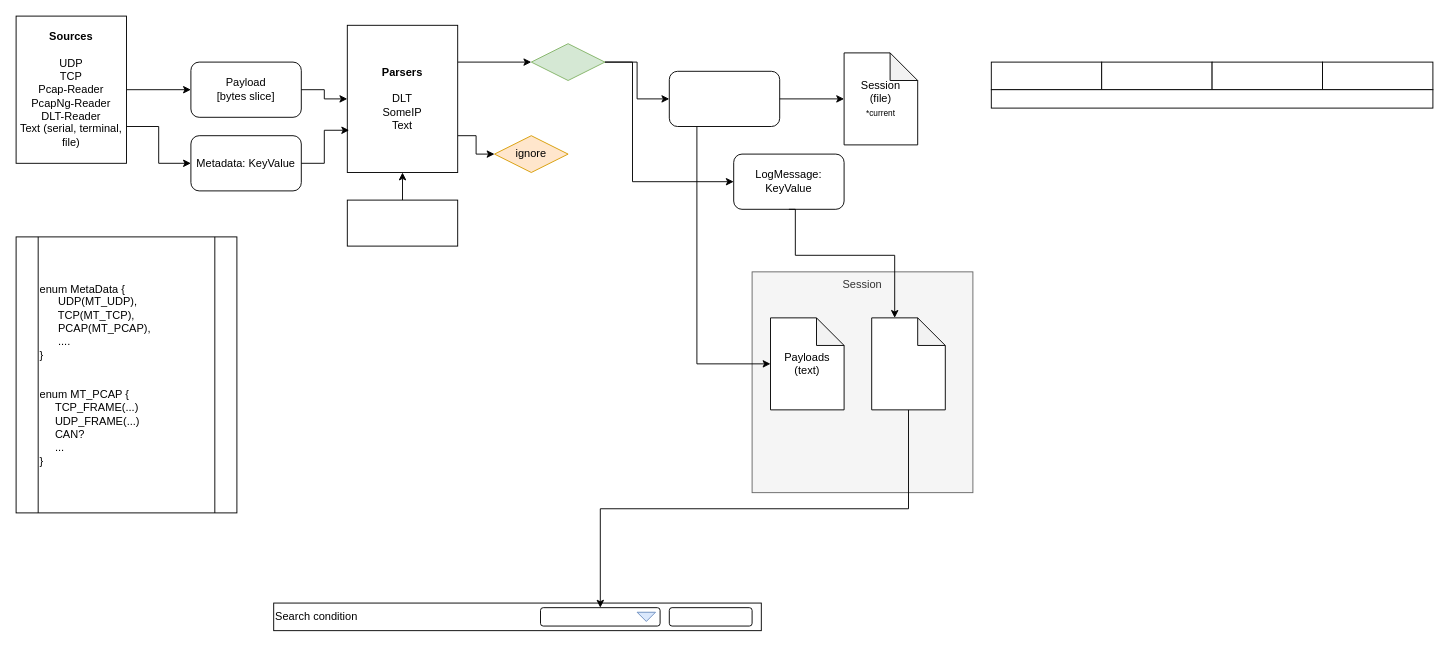
This 1449x647 diagram has some shape labels left out. Here are the shapes that lost their labels. From the top down, the centre of each, then its label:
the point at 567,61: include
the point at 724,98: LogMessage: Display (string)
the point at 402,222: Parsers Options
the point at 908,363: Metadata (binary or text)
the point at 600,616: Sources IPs
the point at 710,616: SEARCH
